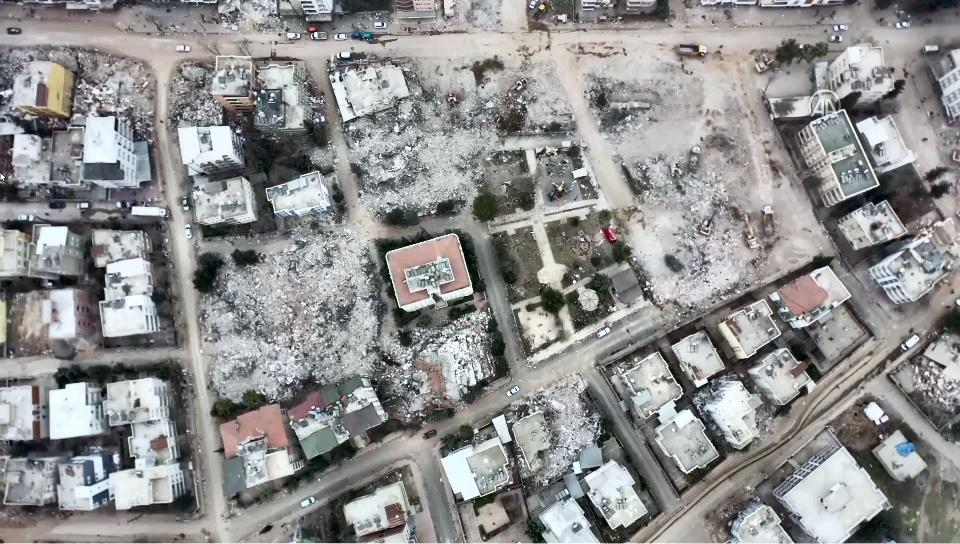kapali: (347, 213, 433, 433), (634, 244, 791, 342)
